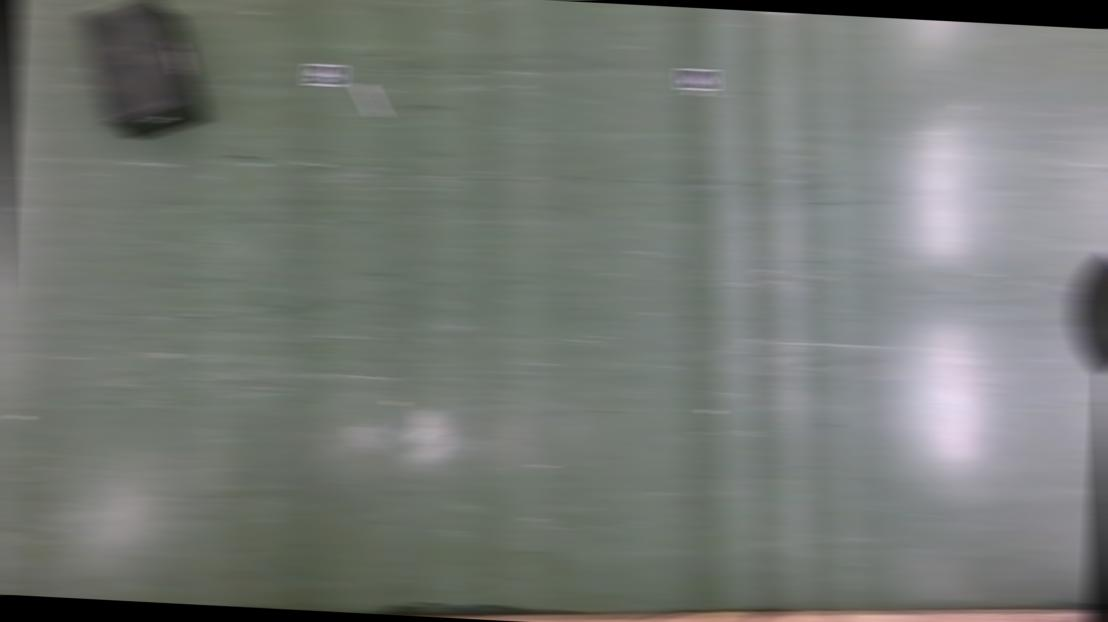probes: (355, 83, 386, 118)
rako: (70, 0, 216, 145)
